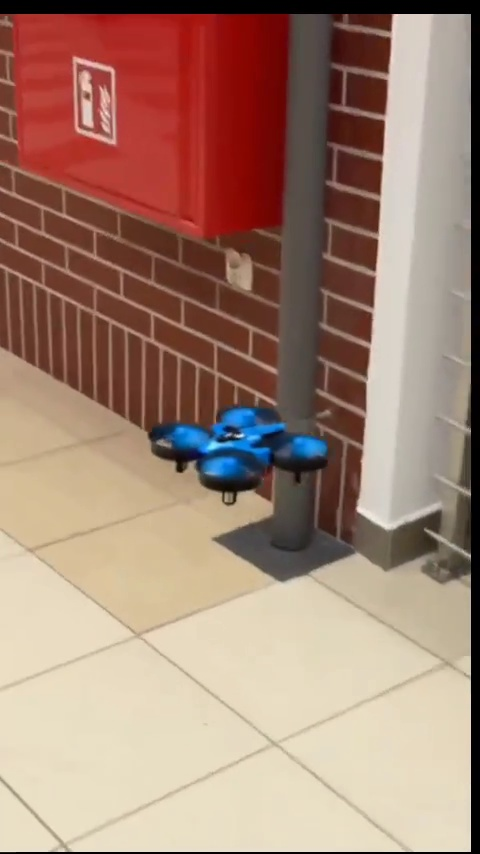drone: (153, 407, 329, 510)
